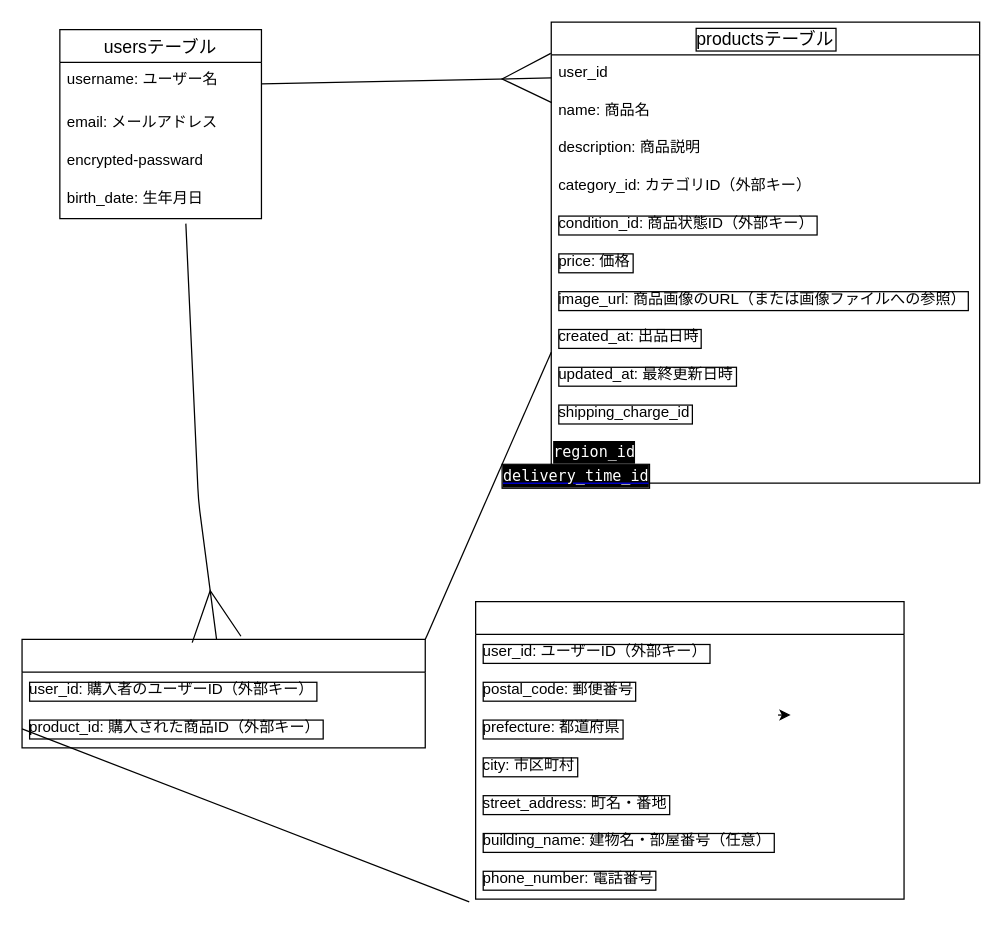
Image size: 1002x926. Some labels were removed from this diagram. Here are the shapes that lost their labels. From the top down, the box of each, then its label:
(21, 638, 425, 748): Ordersテーブル
(474, 600, 904, 899): Addressesテーブルの属性:
